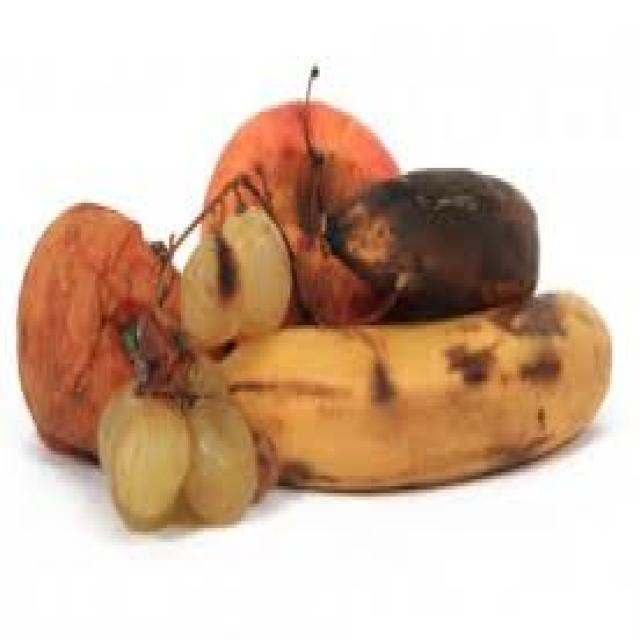food_waste: (16, 98, 610, 525)
